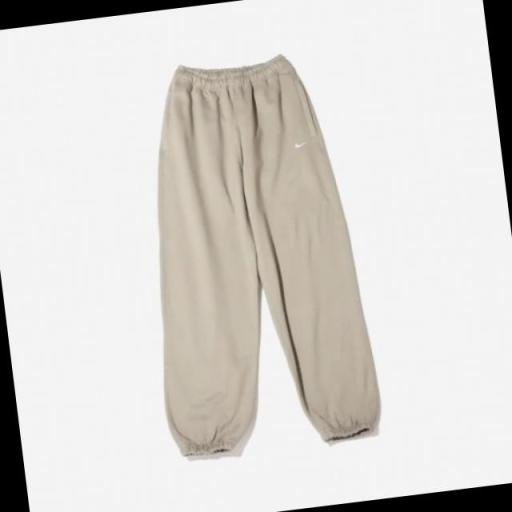Nike: (289, 136, 310, 150)
